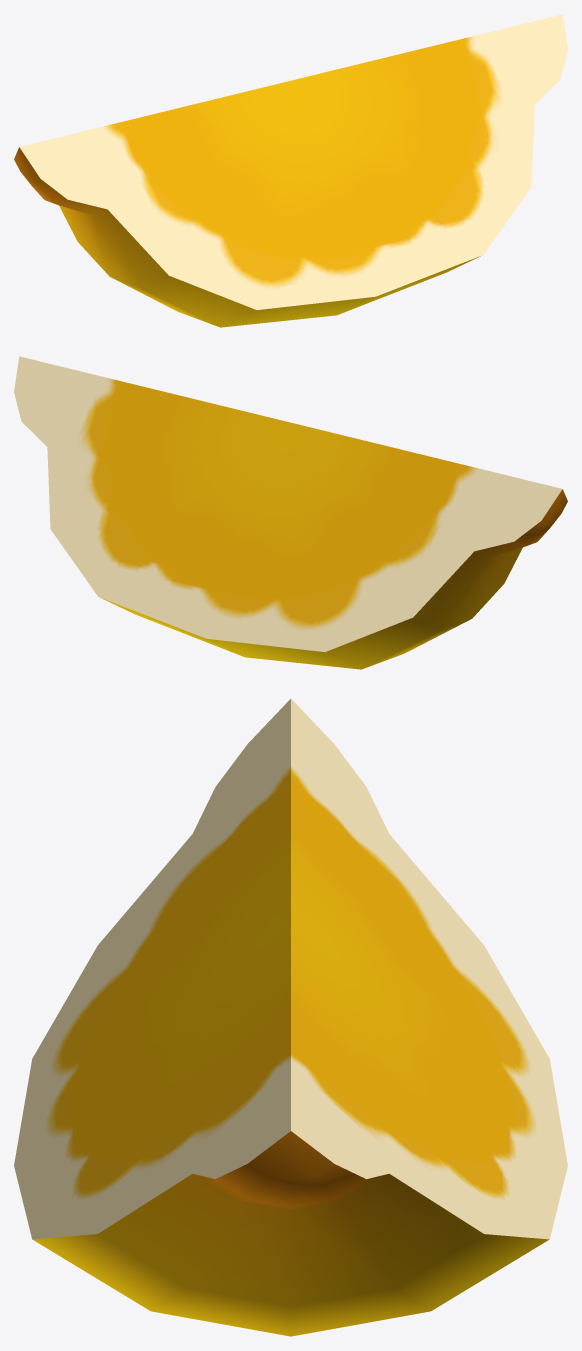
Rendered from Lemon_Slice_02.glb.
The picture shows the model from 3 angles, top to bottom: view 1: azimuth 30°, elevation 25°; view 2: azimuth 150°, elevation 25°; view 3: azimuth 270°, elevation 25°; orthographic projection. The views are drawn at different scales.
Parts seen in each view (by area): view 1: Lemon_Slice_02; view 2: Lemon_Slice_02; view 3: Lemon_Slice_02.
Boxes of the visible parts, x1,y1,x2,y2 form: Lemon_Slice_02: (14,14,567,327); Lemon_Slice_02: (14,356,567,669); Lemon_Slice_02: (14,699,567,1336).
Size of the model in its own units: 0.2321 by 0.0888 by 0.1256.
1 material, 1 textured.
